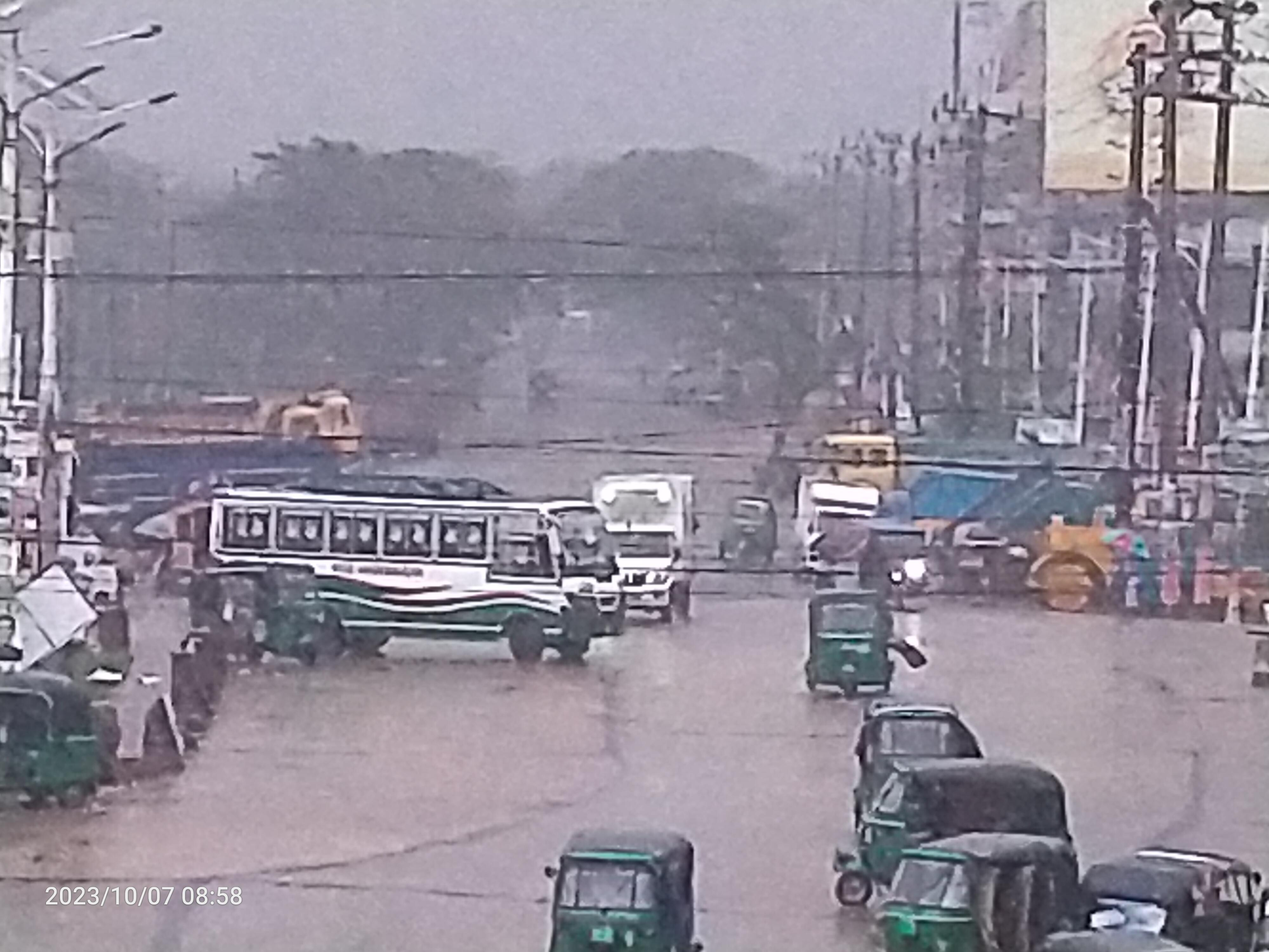Bus: (174, 480, 644, 628)
Car: (582, 444, 718, 666)
